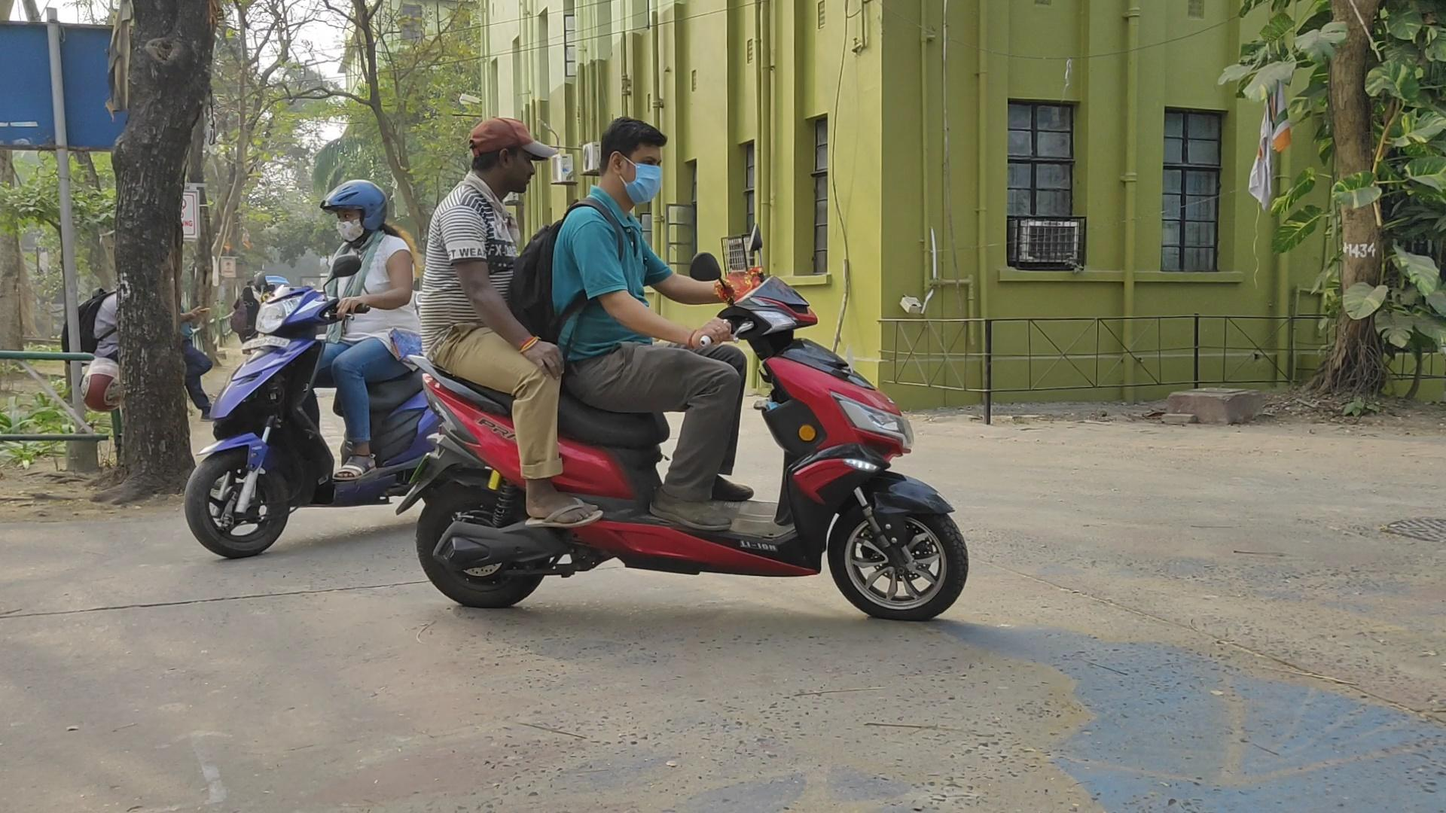bike: (400, 118, 969, 623), (185, 180, 459, 559)
